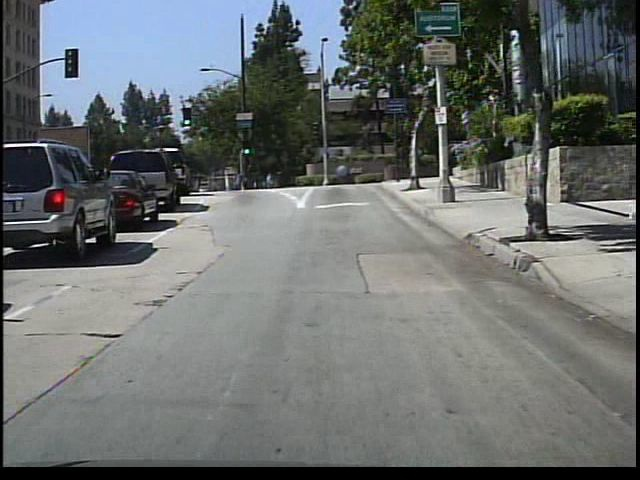person: (261, 166, 277, 192), (231, 167, 246, 192)
